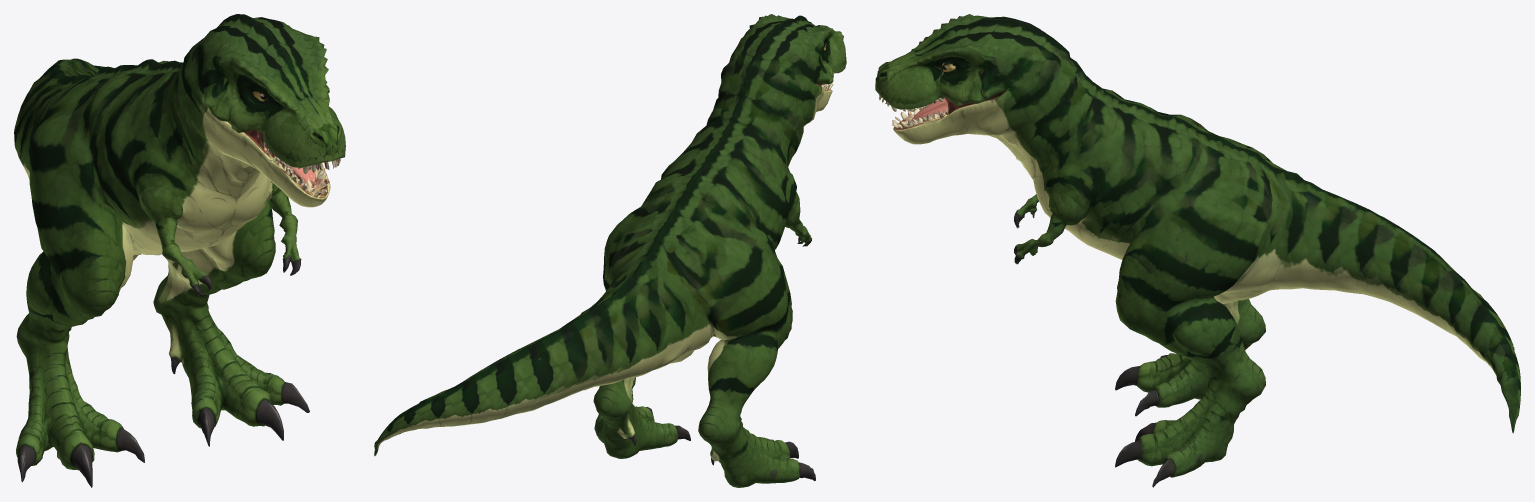
The model's file is Meshy_AI_Emerald_Tyrant_20261025_texture.fbx.
3 renders of one model, left to right at view 1: azimuth 30°, elevation 25°; view 2: azimuth 150°, elevation 25°; view 3: azimuth 270°, elevation 25°, orthographic. The views are drawn at different scales.
Parts seen in each view (by area): view 1: Mesh_0; view 2: Mesh_0; view 3: Mesh_0.
Part boxes in pixels (left/top/right/bottom): Mesh_0: left=14, top=14, right=345, bottom=487; Mesh_0: left=374, top=14, right=846, bottom=487; Mesh_0: left=875, top=14, right=1520, bottom=487.
Bounding box in the file's own units: 50.93 × 66.6 × 95.02.
1 material, 1 textured.
